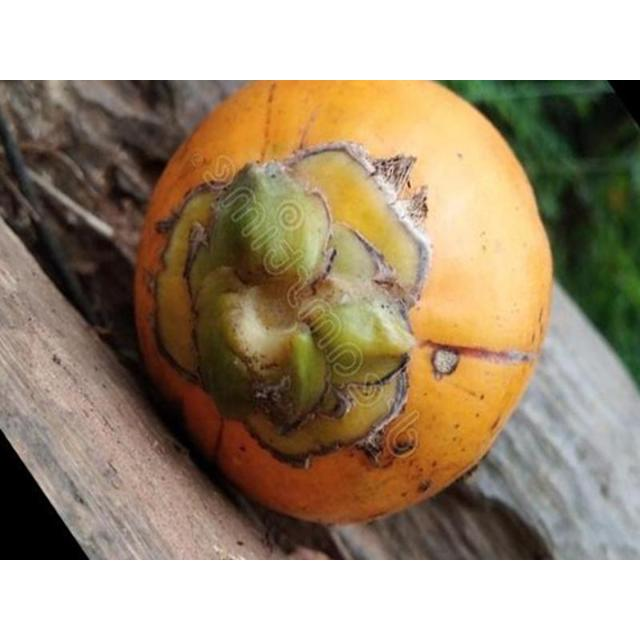good: (130, 80, 555, 530)
